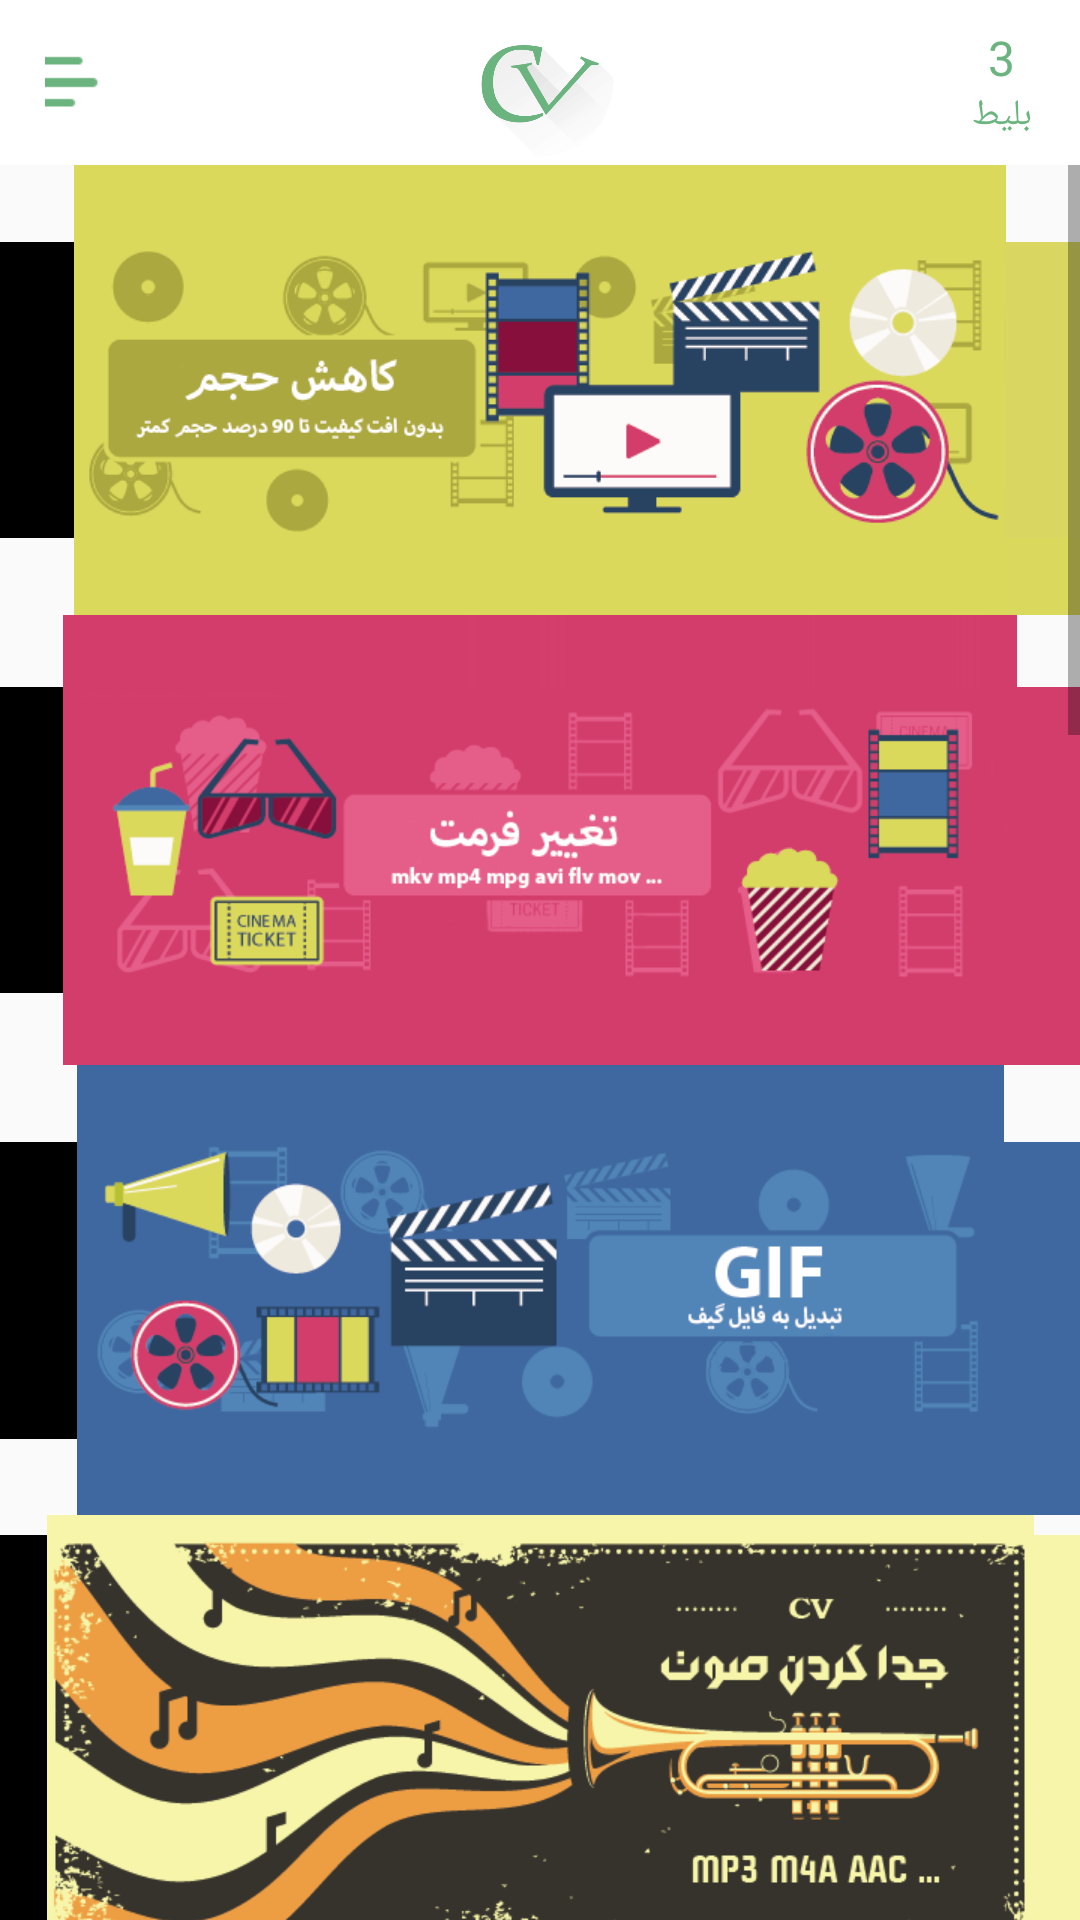

Where to tap for icons on this 1080*1920 app screen, as (x,y):
menu: (71,81)
